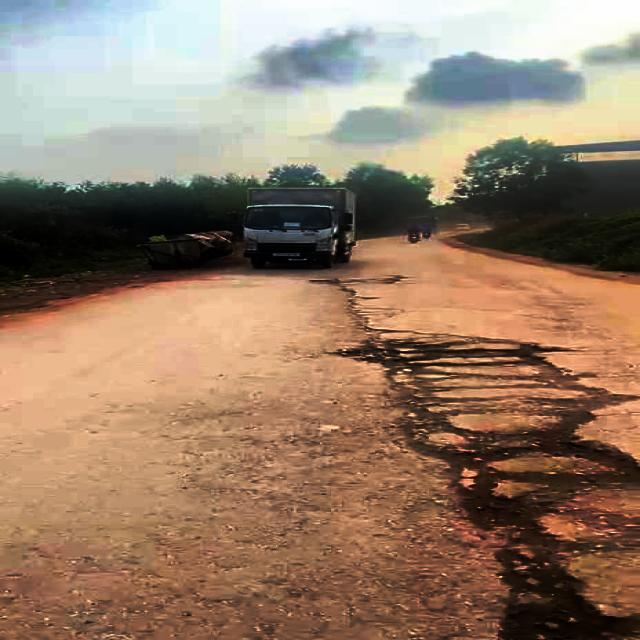pothole: (404, 408, 640, 522), (451, 515, 640, 640), (330, 324, 561, 402)
